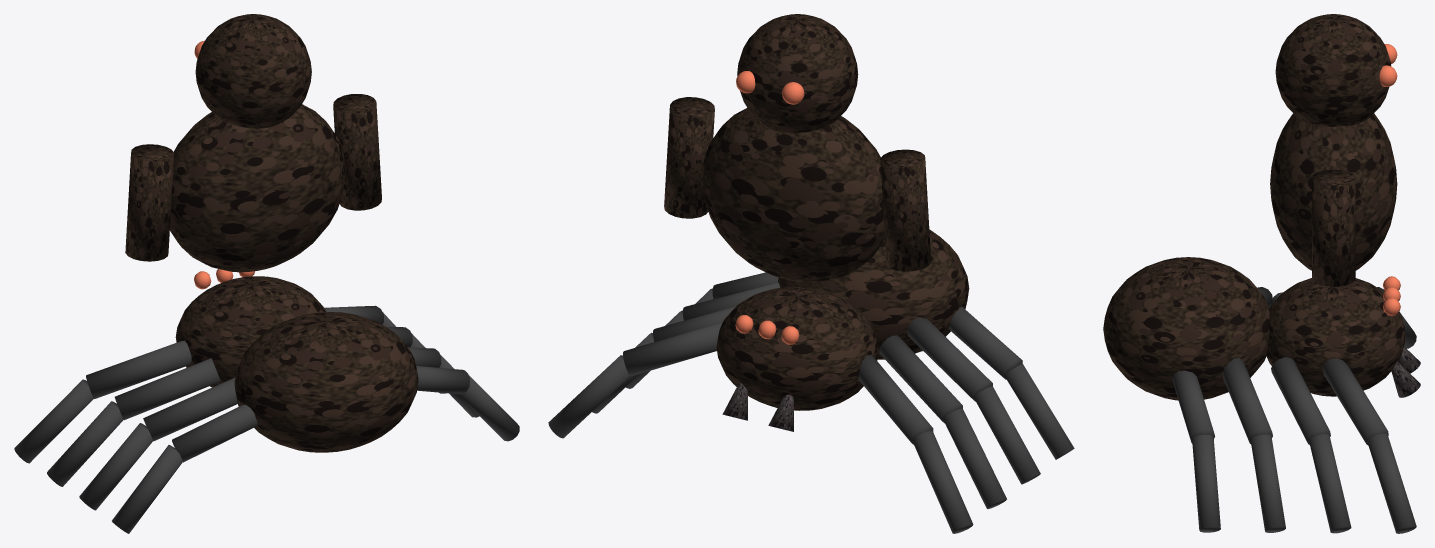
File: jorogumo.glb
3 renders of one model, left to right at view 1: azimuth 30°, elevation 25°; view 2: azimuth 150°, elevation 25°; view 3: azimuth 270°, elevation 25°, orthographic. The views are drawn at different scales.
Visible parts, largest first — view 1: Torso, RearMass, Head, FrontMass, Arm, Arm.001, LegUpper, LegUpper.001, LegUpper.002, LegUpper.003, LegLower.001, LegLower (+4 smaller); view 2: Torso, FrontMass, Head, RearMass, Arm, Arm.001, LegUpper.004, LegUpper.001, LegUpper.002, LegUpper, LegLower, LegLower.001 (+9 smaller); view 3: RearMass, Torso, FrontMass, Head, Arm.001, LegUpper.004, LegLower.004, LegUpper.005, LegLower.005, LegLower.007, LegLower.006, LegUpper.006 (+2 smaller).
Part boxes in pixels (x1,y1,x2,y2): Torso: (170, 104, 345, 272); RearMass: (234, 312, 418, 452); Head: (195, 14, 311, 128); FrontMass: (175, 276, 325, 387); Arm: (125, 144, 174, 261); Arm.001: (333, 94, 381, 210); LegUpper: (86, 340, 191, 398); LegUpper.001: (114, 358, 220, 420); LegUpper.002: (143, 377, 237, 441); LegUpper.003: (172, 404, 257, 462); LegLower.001: (47, 401, 123, 486); LegLower: (14, 379, 93, 463); Torso: (702, 108, 884, 282); FrontMass: (716, 287, 878, 410); Head: (737, 14, 858, 133); RearMass: (778, 229, 969, 359); Arm: (880, 149, 931, 271); Arm.001: (664, 97, 714, 218); LegUpper.004: (623, 322, 722, 376); LegUpper.001: (879, 335, 962, 423); LegUpper.002: (906, 317, 992, 401); LegUpper: (858, 355, 933, 444); LegLower: (913, 431, 973, 533); LegLower.001: (943, 408, 1006, 508); RearMass: (1103, 257, 1269, 400); Torso: (1270, 113, 1397, 270); FrontMass: (1266, 278, 1405, 396); Head: (1275, 14, 1391, 126); Arm.001: (1312, 169, 1355, 286); LegUpper.004: (1322, 358, 1388, 445); LegLower.004: (1367, 433, 1416, 533); LegUpper.005: (1271, 357, 1330, 444); LegLower.005: (1309, 434, 1351, 533); LegLower.007: (1192, 435, 1220, 532); LegLower.006: (1250, 434, 1285, 532); LegUpper.006: (1222, 357, 1272, 444).
Size of the model in its own units: 0.9862 by 0.9812 by 0.6693.
Materials: 4 (2 with a texture image).
